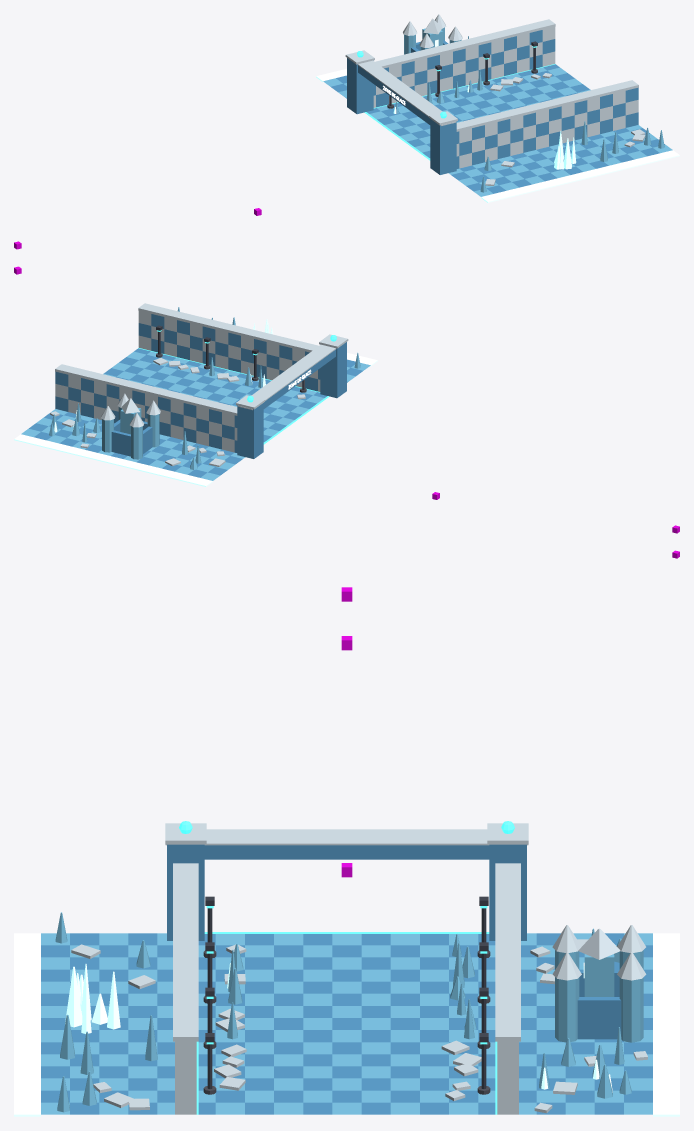
File: Zone3_Glace.glb
3 renders of one model, top to bottom at view 1: azimuth 30°, elevation 25°; view 2: azimuth 150°, elevation 25°; view 3: azimuth 270°, elevation 25°, orthographic. The views are drawn at different scales.
Parts seen in each view (by area): view 1: Zone3_Glace__ice_dark, Zone3_Glace__snow, Zone3_Glace__ice, Zone3_Glace__ice_crystal, Zone3_Glace__glow_cyan; view 2: Zone3_Glace__ice_dark, Zone3_Glace__snow, Zone3_Glace__ice, Zone3_Glace__ice_crystal, Zone3_Glace__glow_cyan; view 3: Zone3_Glace__ice, Zone3_Glace__ice_dark, Zone3_Glace__snow, Zone3_Glace__ice_crystal, Zone3_Glace__metal_dark, Zone3_Glace__glow_cyan.
Boxes of the visible parts, x1,y1,x2,y2 form: Zone3_Glace__ice_dark: [331, 30, 664, 193]; Zone3_Glace__snow: [345, 14, 645, 185]; Zone3_Glace__ice: [323, 27, 672, 196]; Zone3_Glace__ice_crystal: [316, 39, 679, 202]; Zone3_Glace__glow_cyan: [357, 46, 555, 160]; Zone3_Glace__ice_dark: [29, 314, 362, 477]; Zone3_Glace__snow: [50, 303, 348, 466]; Zone3_Glace__ice: [21, 307, 370, 480]; Zone3_Glace__ice_crystal: [14, 319, 377, 486]; Zone3_Glace__glow_cyan: [138, 330, 336, 444]; Zone3_Glace__ice: [41, 912, 652, 1114]; Zone3_Glace__ice_dark: [41, 844, 652, 1114]; Zone3_Glace__snow: [71, 823, 647, 1114]; Zone3_Glace__ice_crystal: [14, 933, 679, 1116]; Zone3_Glace__metal_dark: [205, 896, 488, 1088]; Zone3_Glace__glow_cyan: [179, 821, 514, 1114].
Size of the model in its own units: 482 by 78 by 248.
